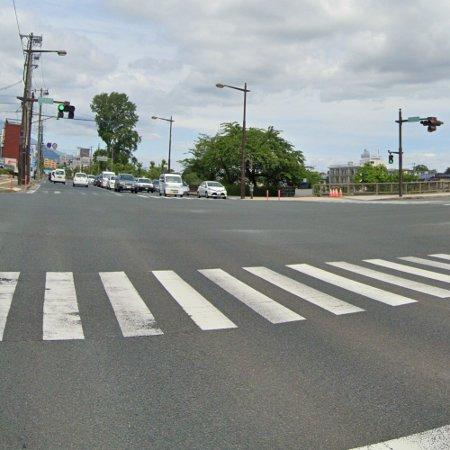crosswalks: (0, 252, 450, 341)
